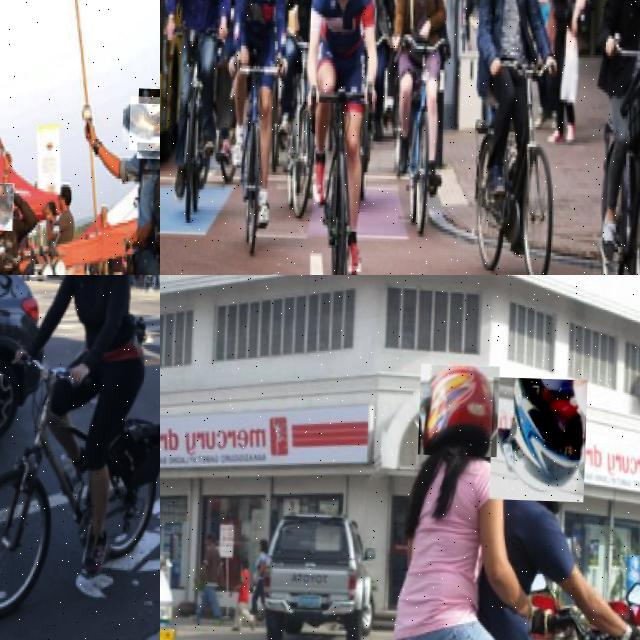helmet: (489, 376, 587, 502), (418, 363, 500, 457), (128, 95, 160, 151), (0, 181, 14, 230)
